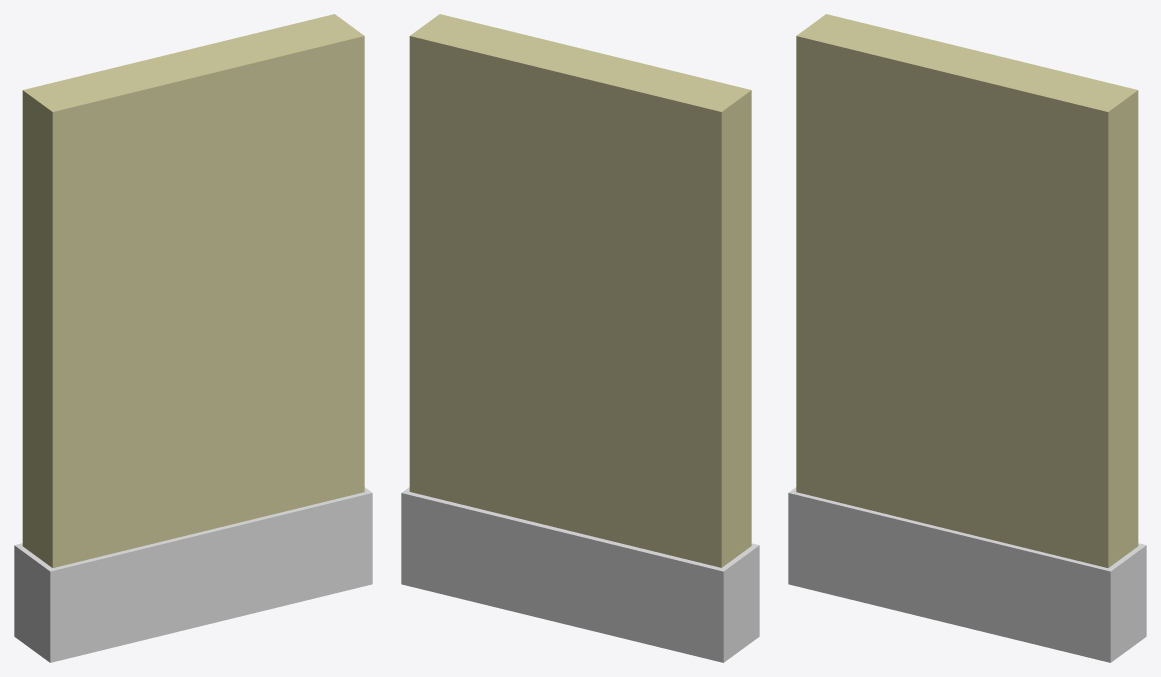
The model's file is WallTile_BasicYellow.fbx.
The picture shows the model from 3 angles, left to right: view 1: azimuth 30°, elevation 25°; view 2: azimuth 150°, elevation 25°; view 3: azimuth 330°, elevation 25°; orthographic projection.
Visible parts, largest first — view 1: Cube; view 2: Cube; view 3: Cube.
Boxes of the visible parts, x1,y1,x2,y2 form: Cube: (14,14,372,662); Cube: (401,14,759,662); Cube: (788,14,1146,662).
Size of the model in its own units: 620 by 1006 by 120.
